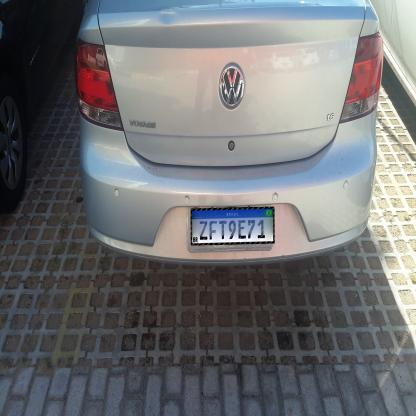PlacaM: (190, 207, 274, 245)
